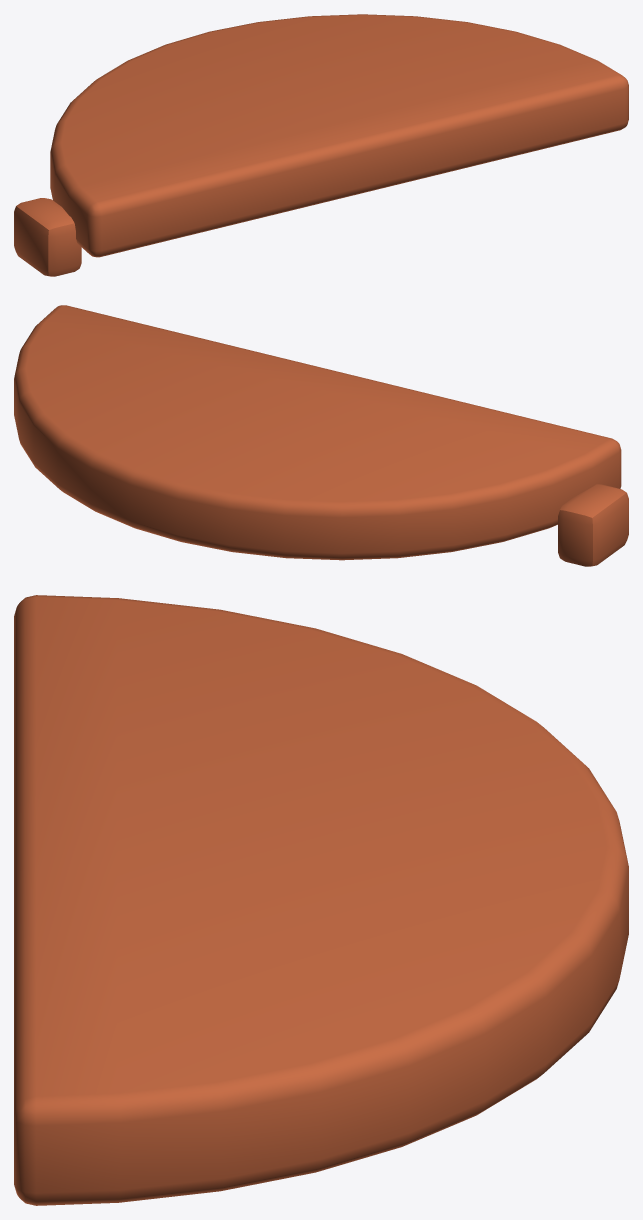
The model's file is circular_saw_lower_guard.glb.
The picture shows the model from 3 angles, top to bottom: view 1: azimuth 30°, elevation 25°; view 2: azimuth 150°, elevation 25°; view 3: azimuth 270°, elevation 25°; orthographic projection. The views are drawn at different scales.
Parts seen in each view (by area): view 1: circular_saw_lower_guard; view 2: circular_saw_lower_guard; view 3: circular_saw_lower_guard.
Part boxes in pixels (left/top/right/bottom): circular_saw_lower_guard: left=14, top=14, right=628, bottom=276; circular_saw_lower_guard: left=14, top=305, right=628, bottom=566; circular_saw_lower_guard: left=14, top=595, right=628, bottom=1205.
Bounding box in the file's own units: 0.1737 × 0.024 × 0.083.
